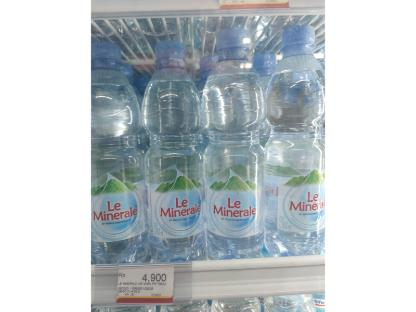Plastic Bottle: (266, 17, 334, 263), (86, 28, 150, 272), (145, 28, 203, 278), (213, 26, 267, 268)
